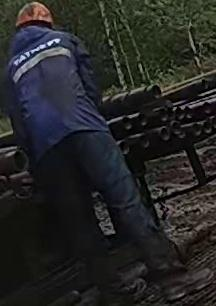helmet: (16, 2, 53, 27)
vest: (2, 25, 109, 172)
